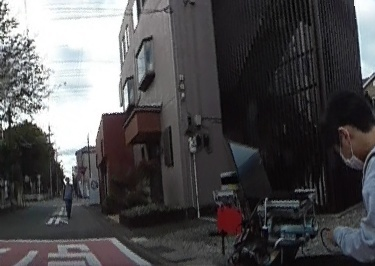person: (314, 88, 375, 266), (60, 175, 75, 218)
